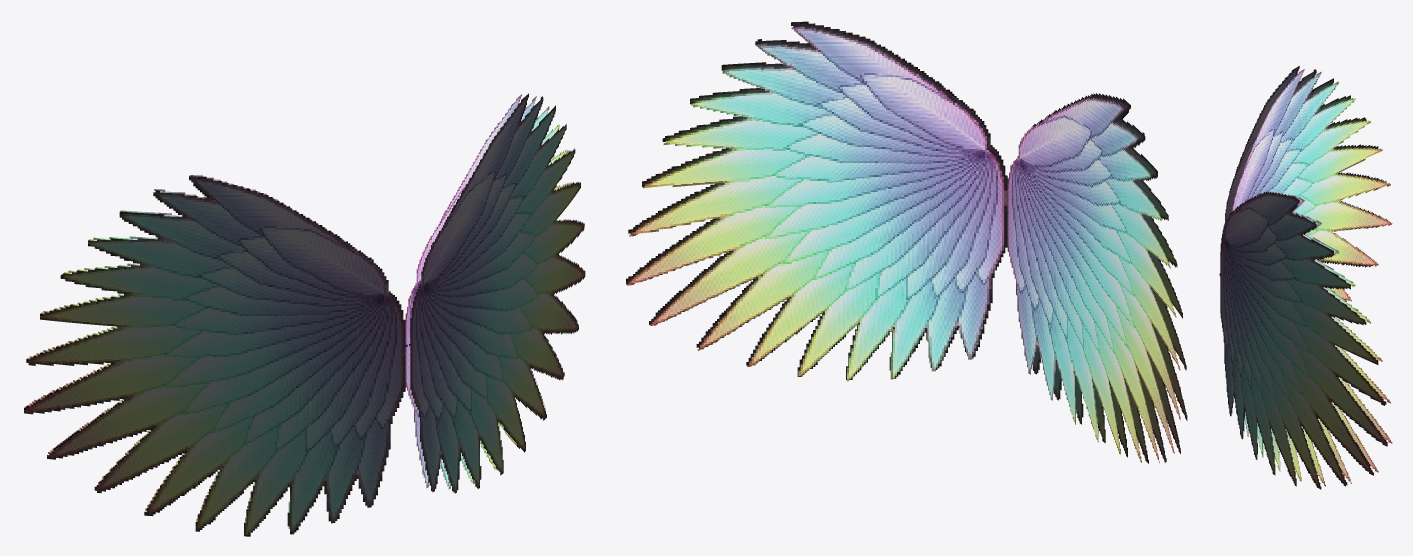
File: owner_prism_seraph_wings.glb
3 renders of one model, left to right at view 1: azimuth 30°, elevation 25°; view 2: azimuth 150°, elevation 25°; view 3: azimuth 270°, elevation 25°, orthographic. The views are drawn at different scales.
Visible parts, largest first — view 1: Owner Prismatic Seraph Wings Wing Right, Owner Prismatic Seraph Wings Wing Left; view 2: Owner Prismatic Seraph Wings Wing Left, Owner Prismatic Seraph Wings Wing Right; view 3: Owner Prismatic Seraph Wings Wing Left, Owner Prismatic Seraph Wings Wing Right.
Boxes of the visible parts, x1,y1,x2,y2 form: Owner Prismatic Seraph Wings Wing Right: (24,175,407,536); Owner Prismatic Seraph Wings Wing Left: (405,93,585,493); Owner Prismatic Seraph Wings Wing Left: (626,21,1007,381); Owner Prismatic Seraph Wings Wing Right: (1006,93,1187,463); Owner Prismatic Seraph Wings Wing Left: (1219,191,1392,489); Owner Prismatic Seraph Wings Wing Right: (1219,66,1392,301).
Bounding box in the file's own units: 2.02 × 1.26 × 0.6798.
Materials: 2 (2 with a texture image).
